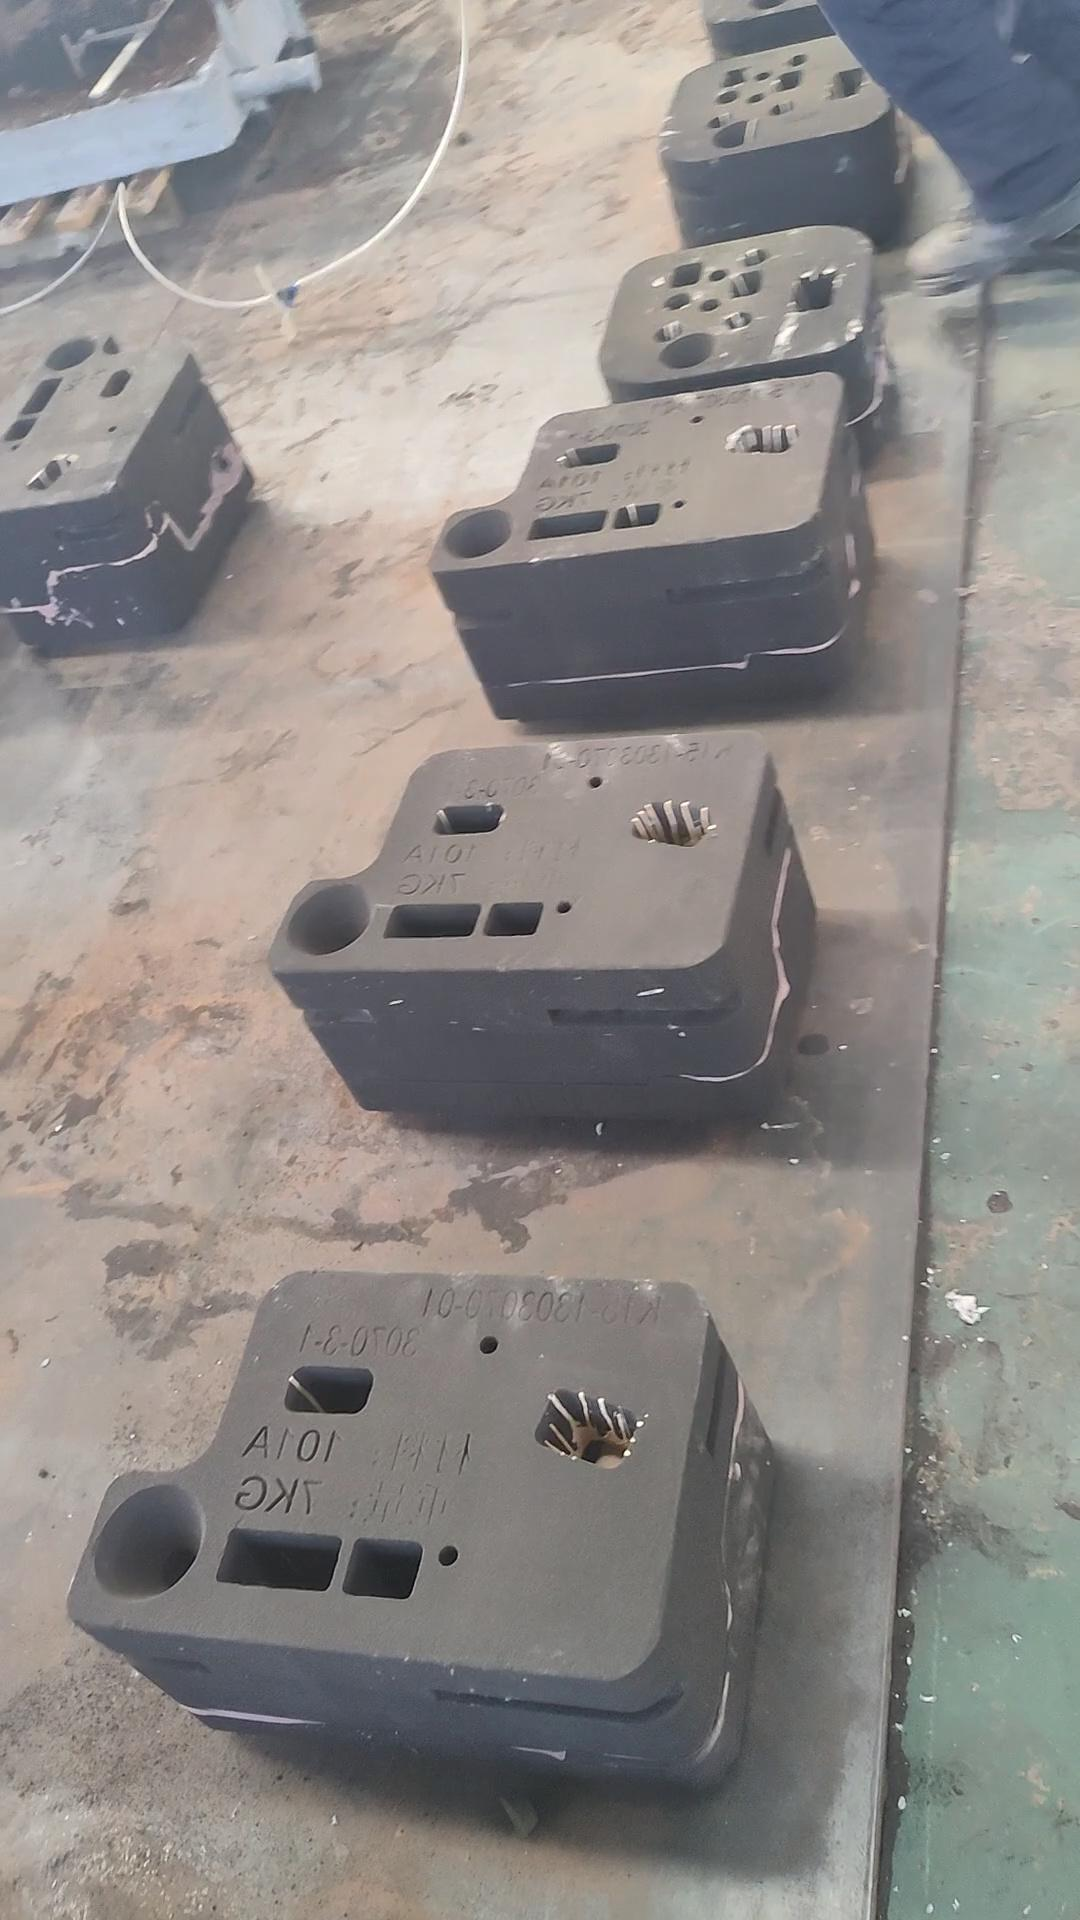pouring hole: (94, 1485, 204, 1600), (287, 884, 372, 955), (443, 509, 514, 558), (659, 334, 716, 369), (45, 338, 98, 372), (713, 119, 753, 148), (748, 1, 790, 12)
